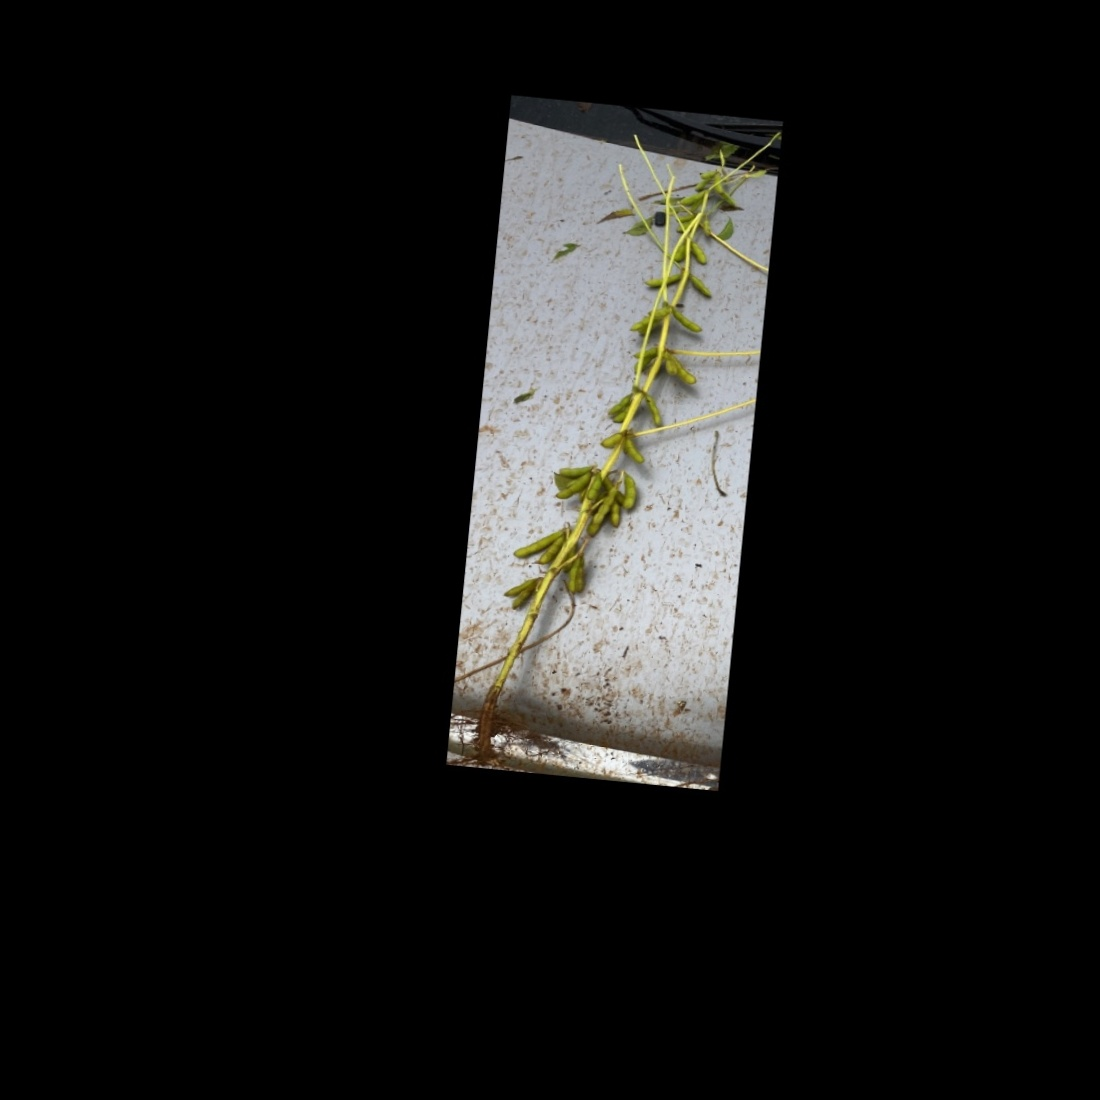pod: (669, 306, 706, 337), (641, 267, 686, 292), (640, 393, 667, 430), (683, 269, 714, 301), (688, 238, 717, 268), (620, 433, 646, 465), (620, 476, 645, 510), (582, 472, 608, 504), (608, 403, 639, 427)
soy: (472, 131, 769, 722)
